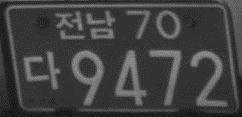0: (154, 9, 181, 39)
2: (189, 50, 228, 107)
4: (114, 50, 146, 107)
7: (149, 48, 181, 106), (125, 9, 149, 40)
9: (69, 48, 104, 106)
다: (22, 50, 62, 90)
전남_O: (55, 10, 114, 39)
